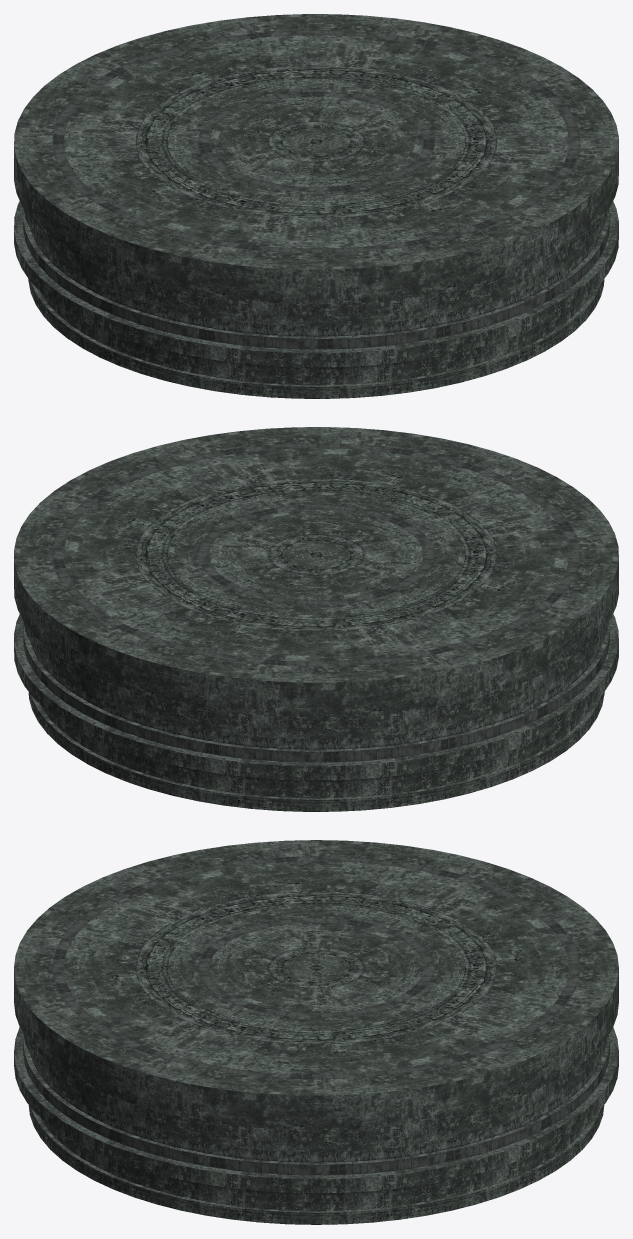
The model's file is mg_9_plate_5.fbx.
The picture shows the model from 3 angles, top to bottom: view 1: azimuth 30°, elevation 25°; view 2: azimuth 150°, elevation 25°; view 3: azimuth 270°, elevation 25°; orthographic projection.
Parts seen in each view (by area): view 1: mg_9_plate_5; view 2: mg_9_plate_5; view 3: mg_9_plate_5.
Boxes of the visible parts, <box> form: mg_9_plate_5: <box>14,14,618,398</box>; mg_9_plate_5: <box>14,427,618,811</box>; mg_9_plate_5: <box>14,840,618,1224</box>.
Size of the model in its own units: 1829 by 452 by 1829.
